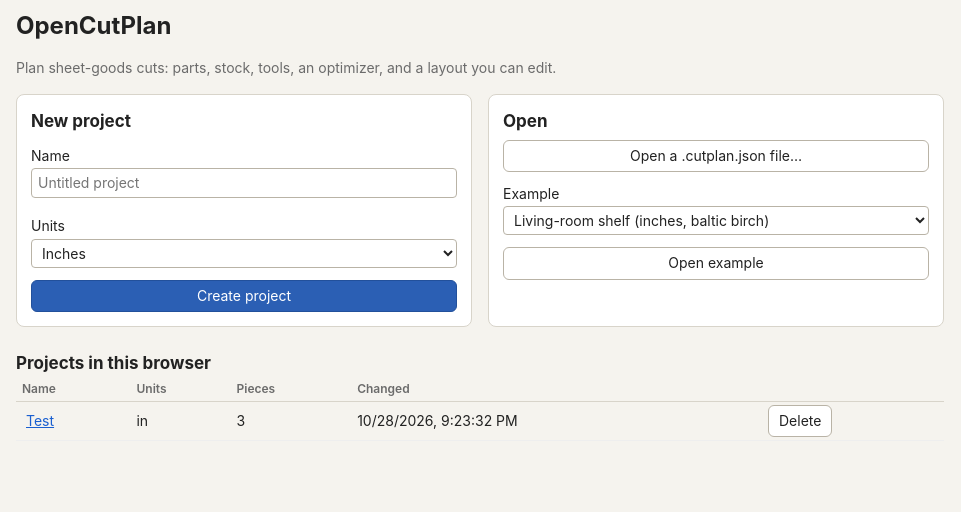
Scenario: App › shows an error and keeps the project when the delete fails
Click the button with aria-label "Delete Test" at (800, 421), box 768,405 -> 832,437
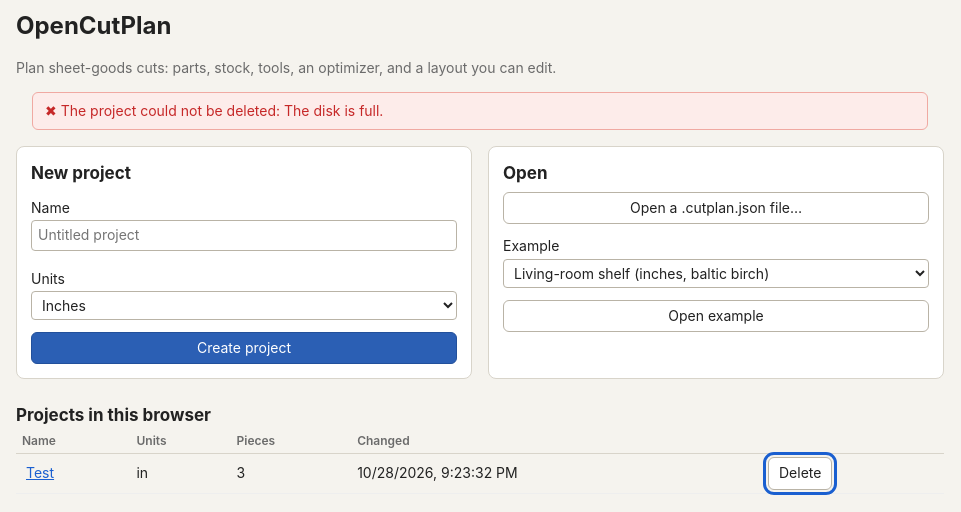
expect the button with aria-label "Delete Test" is shown: met, box 768,457 -> 832,490
expect the message shows "The project could not be deleted: The disk is full.": met, box 61,102 -> 383,119
